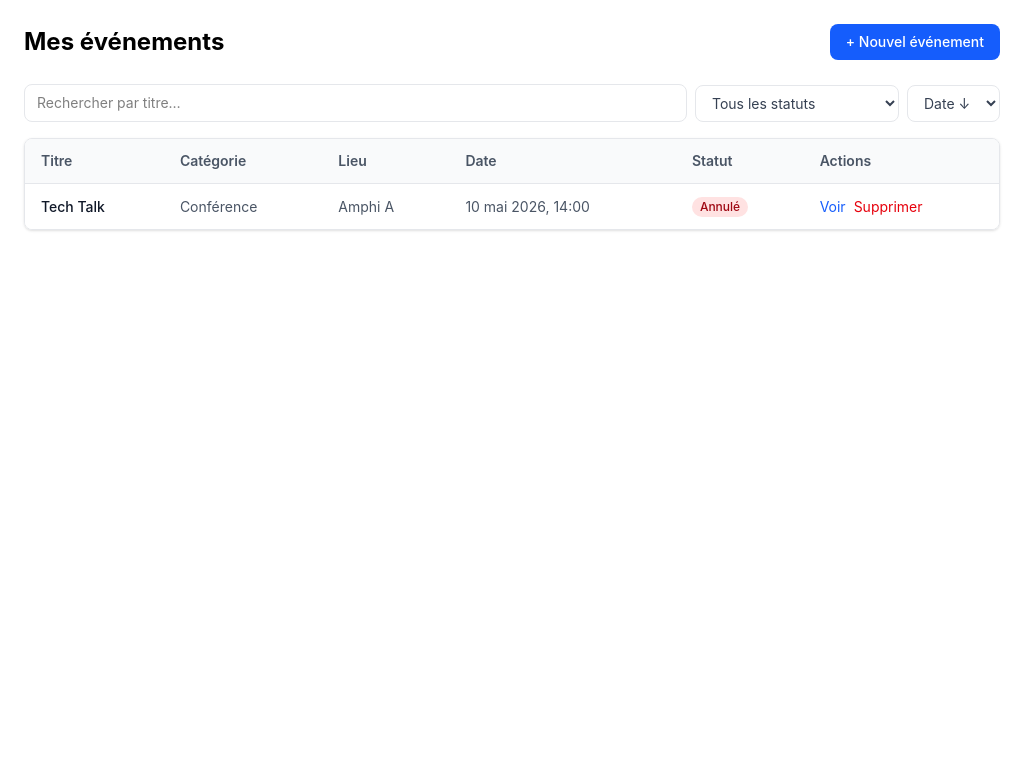
it: MyEventsPage › does not require typing for a CANCELLED event (plain confirm)
Click the button "Supprimer" at (888, 206), box [854, 196, 922, 216]
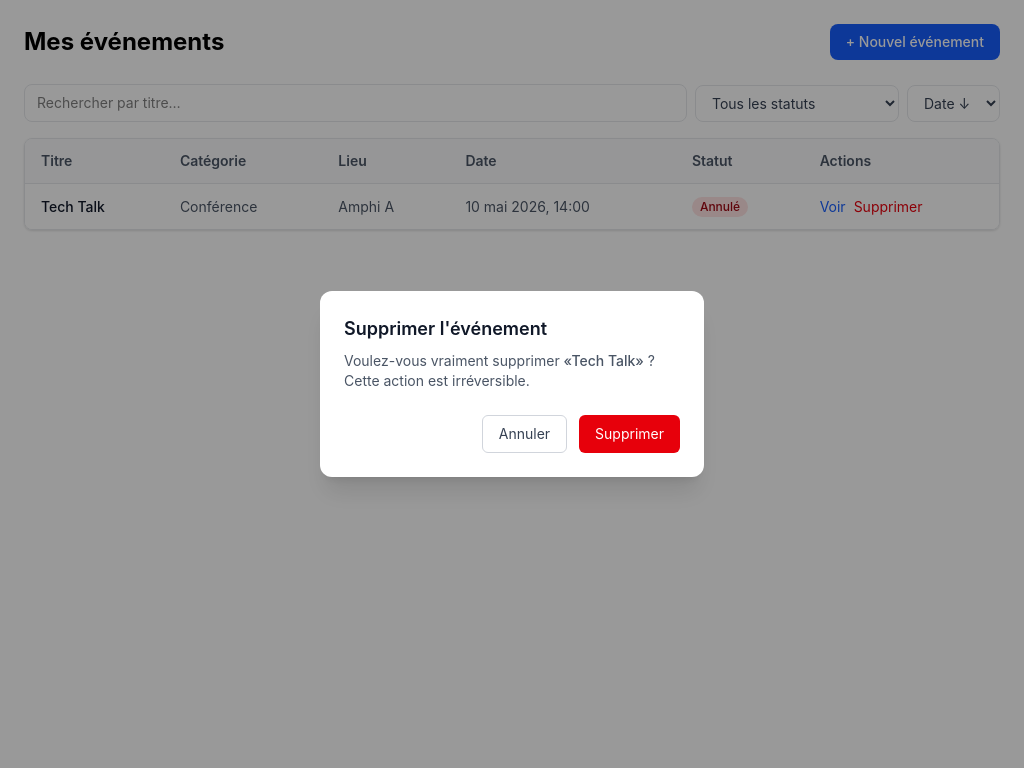
Expected: the button "Supprimer" is enabled, [579, 415, 680, 453]
